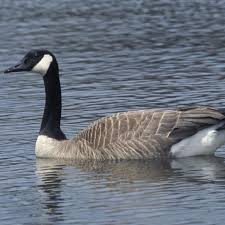goose: (2, 46, 225, 166)
